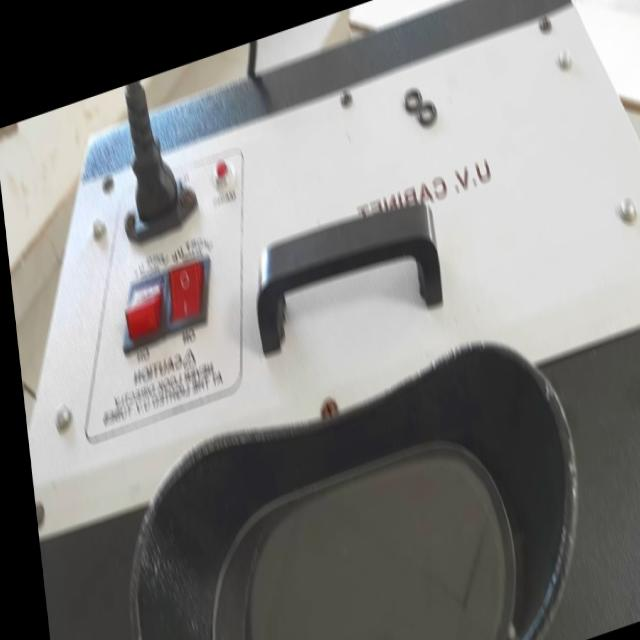U.V Cabinet: (0, 0, 632, 640)
